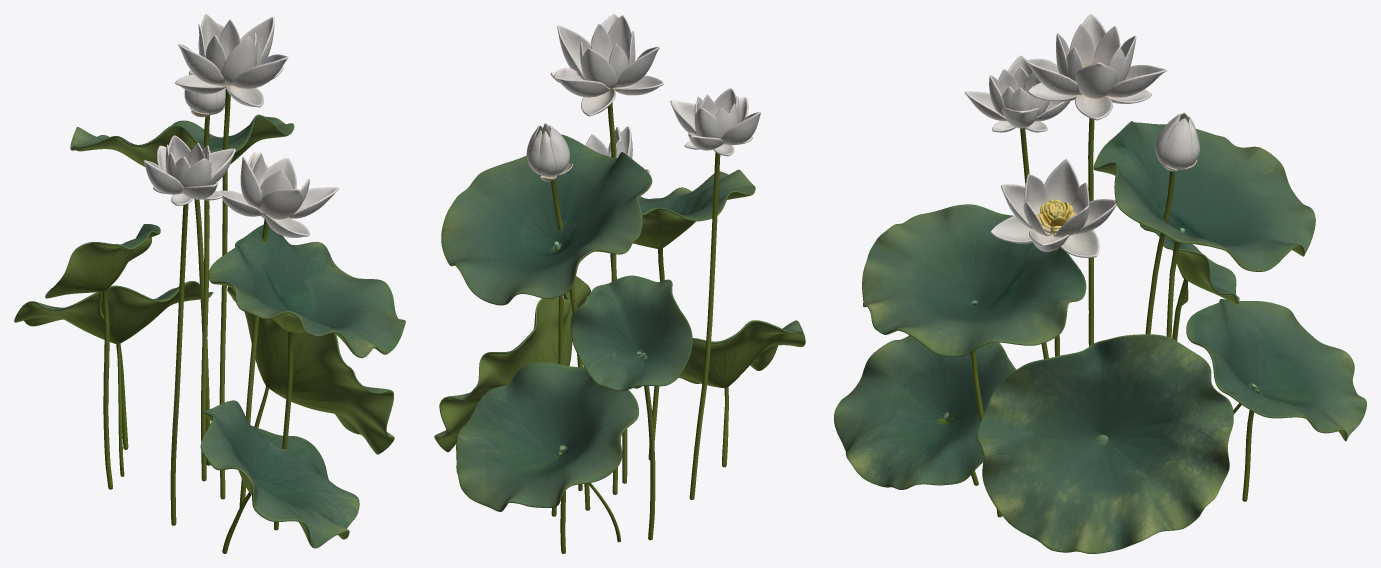
3 renders of one model, left to right at view 1: azimuth 30°, elevation 25°; view 2: azimuth 150°, elevation 25°; view 3: azimuth 270°, elevation 25°, orthographic. The views are drawn at different scales.
Parts seen in each view (by area): view 1: tripo_node_6568828e-bed9-4b36-82c9-ba869f06f223; view 2: tripo_node_6568828e-bed9-4b36-82c9-ba869f06f223; view 3: tripo_node_6568828e-bed9-4b36-82c9-ba869f06f223.
Part boxes in pixels (x1=…): tripo_node_6568828e-bed9-4b36-82c9-ba869f06f223: x1=14, y1=14, x2=405, y2=553; tripo_node_6568828e-bed9-4b36-82c9-ba869f06f223: x1=434, y1=14, x2=805, y2=553; tripo_node_6568828e-bed9-4b36-82c9-ba869f06f223: x1=834, y1=14, x2=1366, y2=553.
Bounding box in the file's own units: 0.5902 × 0.981 × 0.9784.
1 material, 1 textured.
